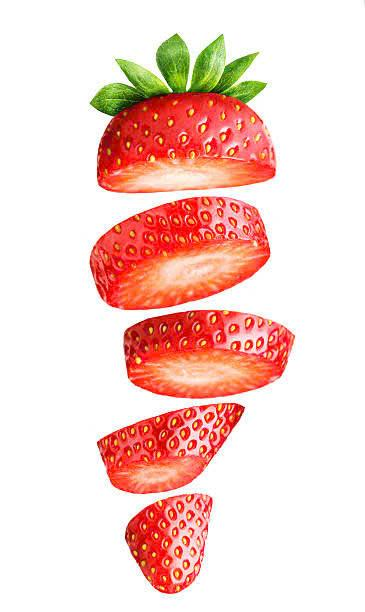strawberry: (84, 400, 251, 604), (61, 189, 316, 309), (117, 24, 269, 205), (116, 314, 290, 406)
